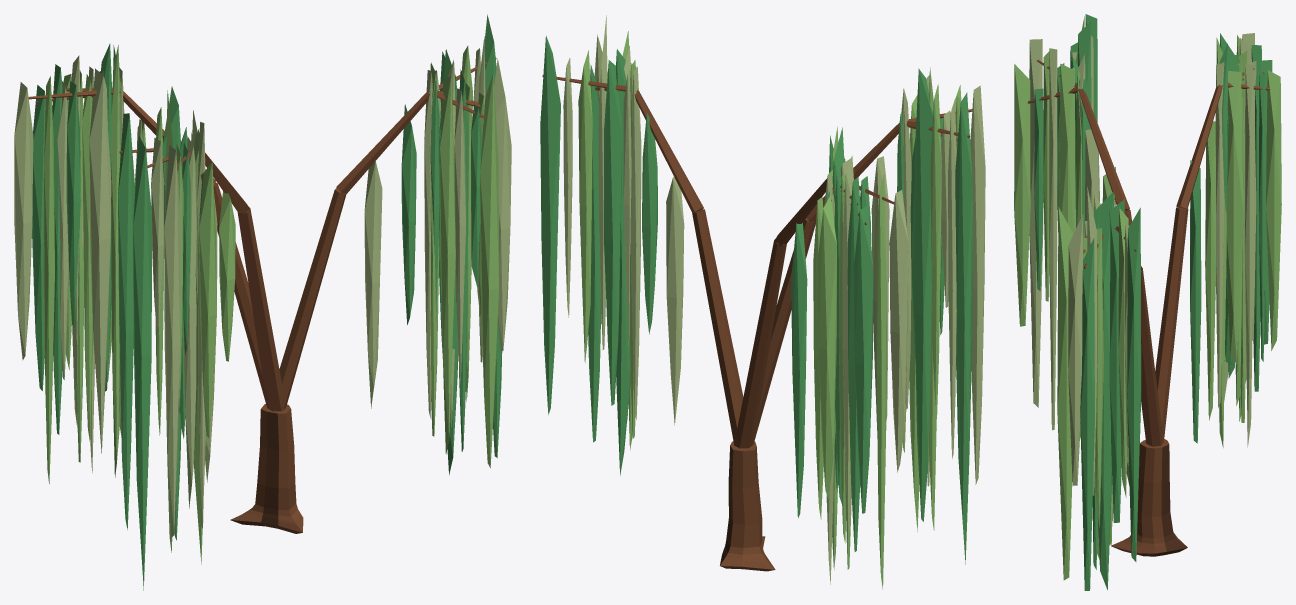
The model's file is tree_willow_b.glb.
3 views of the same model, side by side, from view 1: azimuth 30°, elevation 25°; view 2: azimuth 150°, elevation 25°; view 3: azimuth 270°, elevation 25° (orthographic). The views are drawn at different scales.
Visible parts, largest first — view 1: TreeWillowB; view 2: TreeWillowB; view 3: TreeWillowB.
Part boxes in pixels (box(x1,y1,x2,y2)): TreeWillowB: box(14, 14, 511, 590); TreeWillowB: box(540, 15, 985, 589); TreeWillowB: box(1014, 14, 1281, 590).
Bounding box in the file's own units: 9.97 × 11.14 × 5.78.
